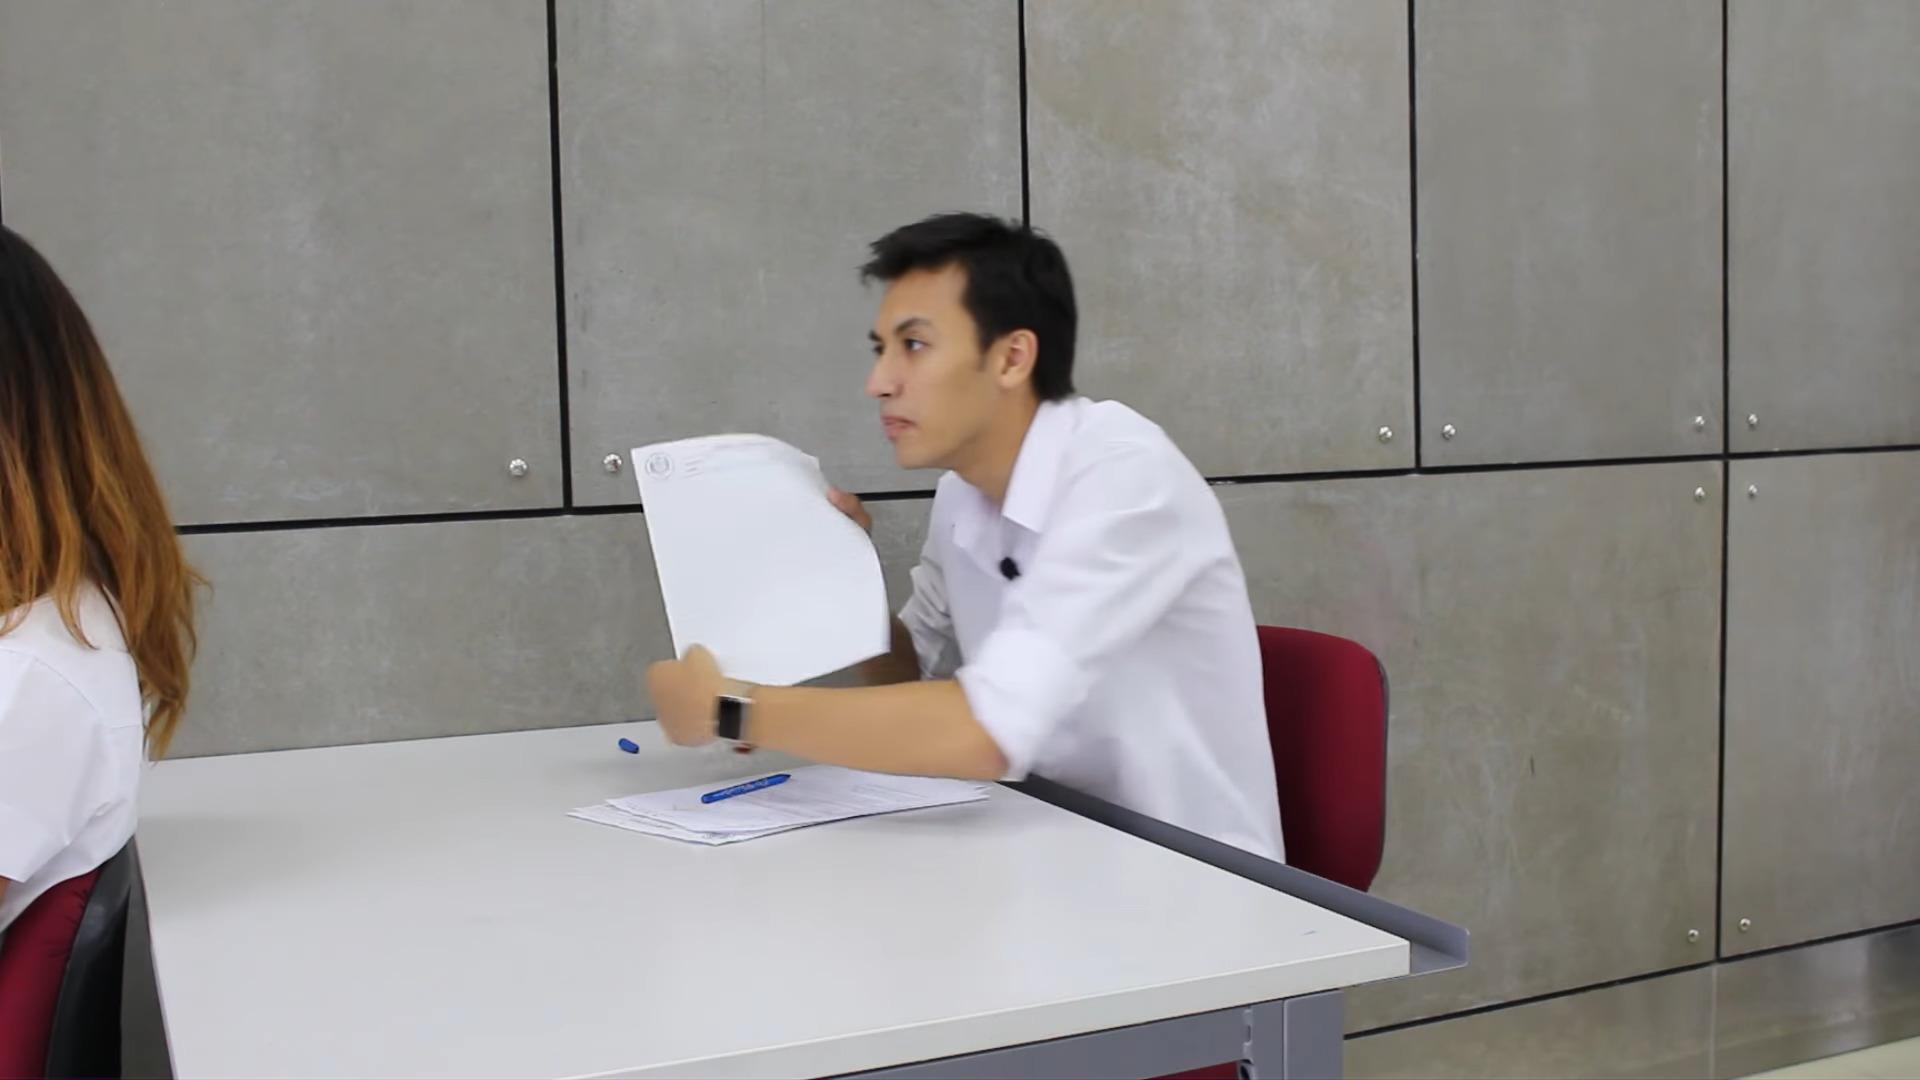cheating: (533, 183, 1320, 878)
